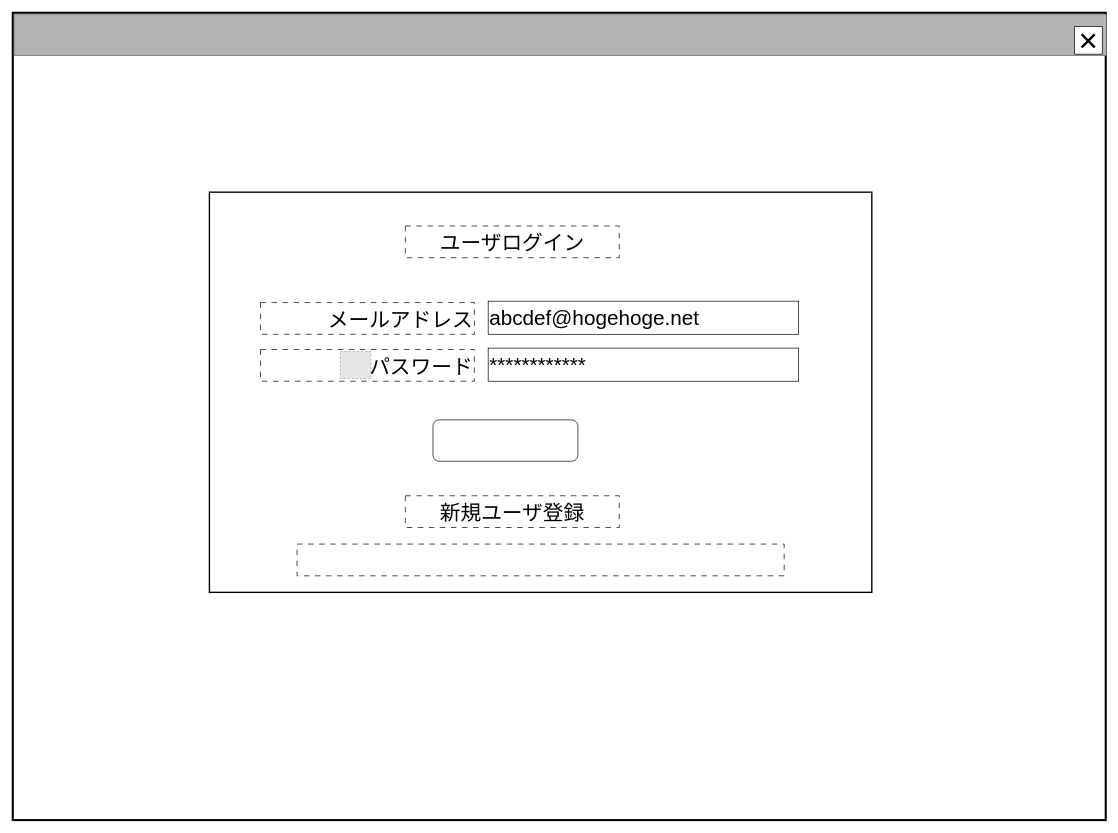
This 1118x833 diagram has some shape labels left out. Grey dashed boxes stand in for pictures. The shapes that lost their labels are listed below. From the top down, each one's centre as x and y in pixels, then its label:
At point 505,440: "ログイン".
At point 540,559: "※パスワードを忘れたので再発行".
